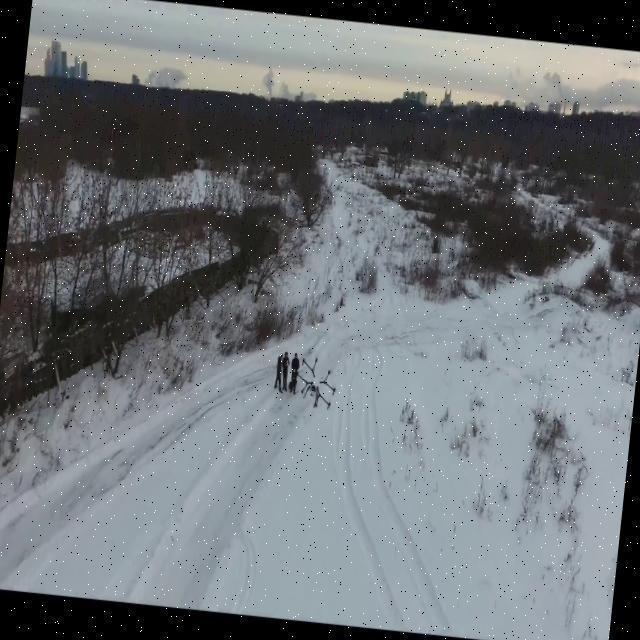Drons: (288, 352, 341, 414)
